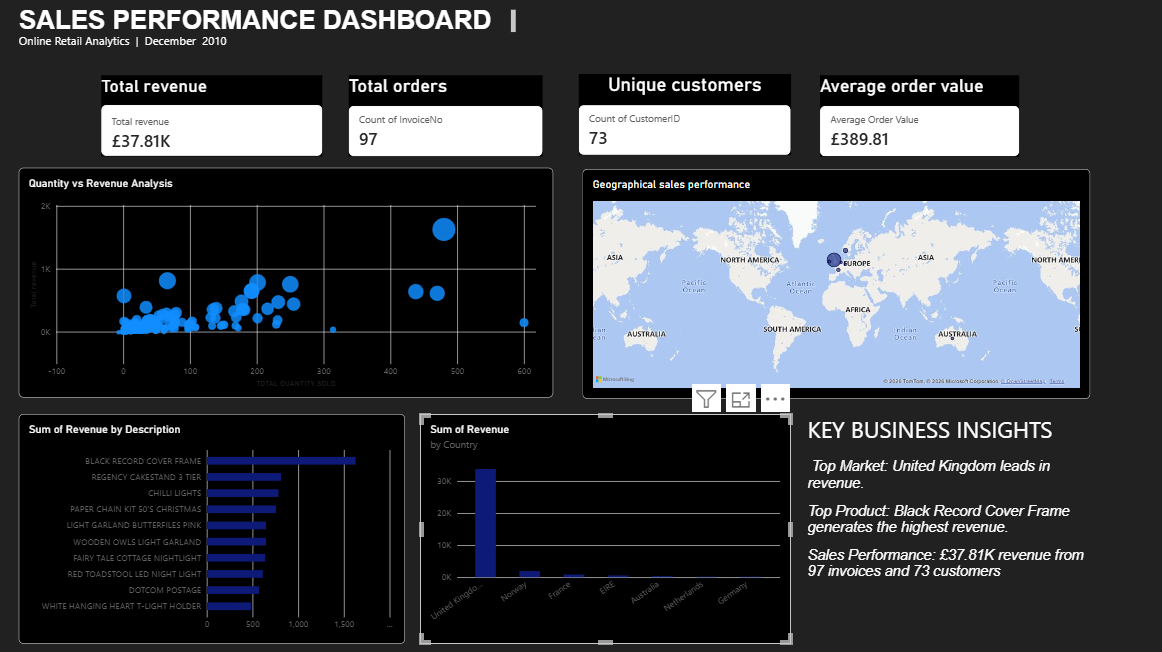

The dashboard page shown, as its layout file describes it:
{"tool":"powerbi","page":{"name":"Page 1","canvas":[1920,1080],"ordinal":0},"visuals":[{"type":"cardVisual","title":"Total revenue","fields":{"Data":["Sum(practice_2000.Revenue )"]},"box":[166,126,364.3,133.8],"z":1000},{"type":"cardVisual","title":"Total orders ","fields":{"Data":["Count(practice_2000.InvoiceNo)"]},"box":[574,126,319,133.8],"z":1001},{"type":"cardVisual","title":"Unique customers","fields":{"Data":["Count(practice_2000.CustomerID)"]},"box":[952,124,349.9,133.8],"z":1002},{"type":"map","title":"Geographical sales performance ","fields":{"Category":["practice_2000.Country"],"Size":["Sum(practice_2000.Revenue )"]},"box":[960,280,836,378],"z":1003},{"type":"clusteredBarChart","fields":{"Category":["practice_2000.Description"],"Y":["Sum(practice_2000.Revenue )"]},"box":[30,684,636,378],"z":1004},{"type":"clusteredColumnChart","fields":{"Category":["practice_2000.Country"],"Y":["Sum(practice_2000.Revenue )"]},"box":[692,684,610,378],"z":1005},{"type":"textbox","box":[30,14,818,42],"z":1006},{"type":"textbox","box":[30,56,704,46],"z":1007},{"type":"textbox","box":[1330,684,466,378],"z":1008},{"type":"scatterChart","title":"Quantity vs Revenue Analysis ","fields":{"Category":["practice_2000.Description"],"Size":["practice_2000.Total revenue"],"X":["practice_2000.TOTAL OUANTITY SOLD"],"Y":["practice_2000.Total revenue"]},"box":[30,278,880,378],"z":1010},{"type":"cardVisual","title":"Average order value","fields":{"Data":["practice_2000.Average Order Value"]},"box":[1350,126,328,134],"z":1011}]}

Visuals, with their boxes in screenshot pixels (x1, y1, x2, y2), scaled from the page's 1920x1080 canvas onto the 1162x652 screenshot:
"Total revenue" cardVisual: 100, 76, 321, 157
"Total orders " cardVisual: 347, 76, 540, 157
"Unique customers" cardVisual: 576, 75, 788, 156
"Geographical sales performance " map: 581, 169, 1087, 397
clusteredBarChart - practice_2000.Description x Sum(practice_2000.Revenue ): 18, 413, 403, 641
clusteredColumnChart - practice_2000.Country x Sum(practice_2000.Revenue ): 419, 413, 788, 641
textbox: 18, 8, 513, 34
textbox: 18, 34, 444, 62
textbox: 805, 413, 1087, 641
"Quantity vs Revenue Analysis " scatterChart: 18, 168, 551, 396
"Average order value" cardVisual: 817, 76, 1016, 157
